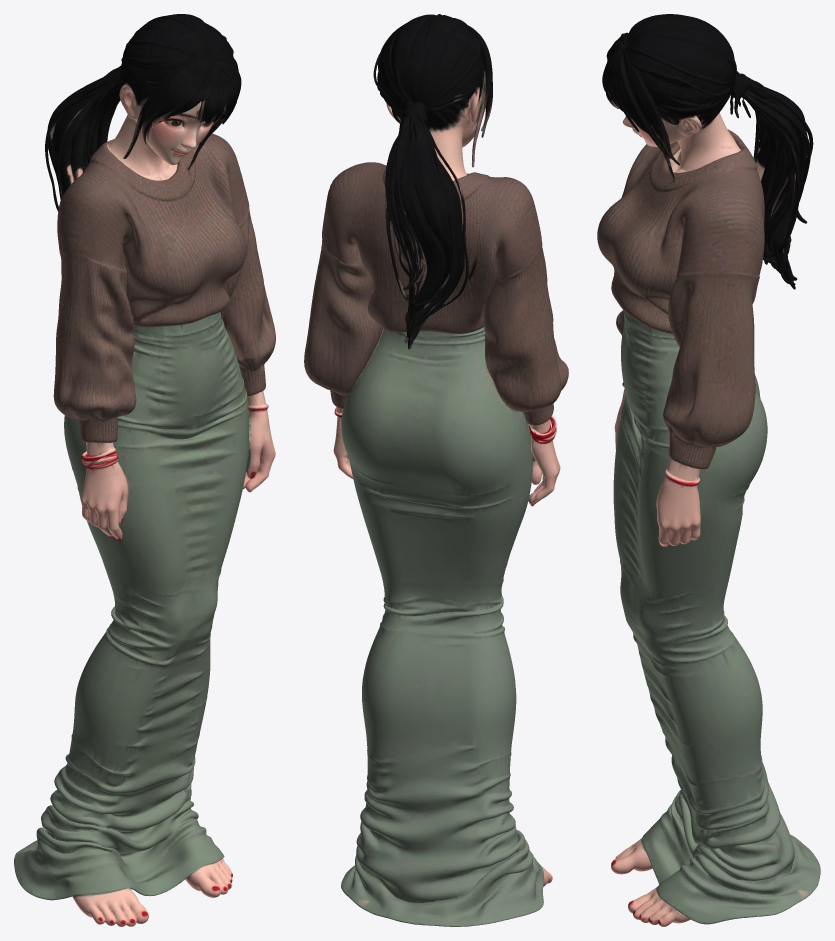
The model's file is fashion-look.glb.
3 views of the same model, side by side, from view 1: azimuth 30°, elevation 25°; view 2: azimuth 150°, elevation 25°; view 3: azimuth 270°, elevation 25° (orthographic). The views are drawn at different scales.
Visible parts, largest first — view 1: Object_4; view 2: Object_4; view 3: Object_4.
Part boxes in pixels (x1=…): Object_4: x1=14, y1=14, x2=275, y2=926; Object_4: x1=304, y1=14, x2=568, y2=926; Object_4: x1=597, y1=14, x2=820, y2=926.
Bounding box in the file's own units: 0.5436 × 1.91 × 0.4338.
1 material, 1 textured.
